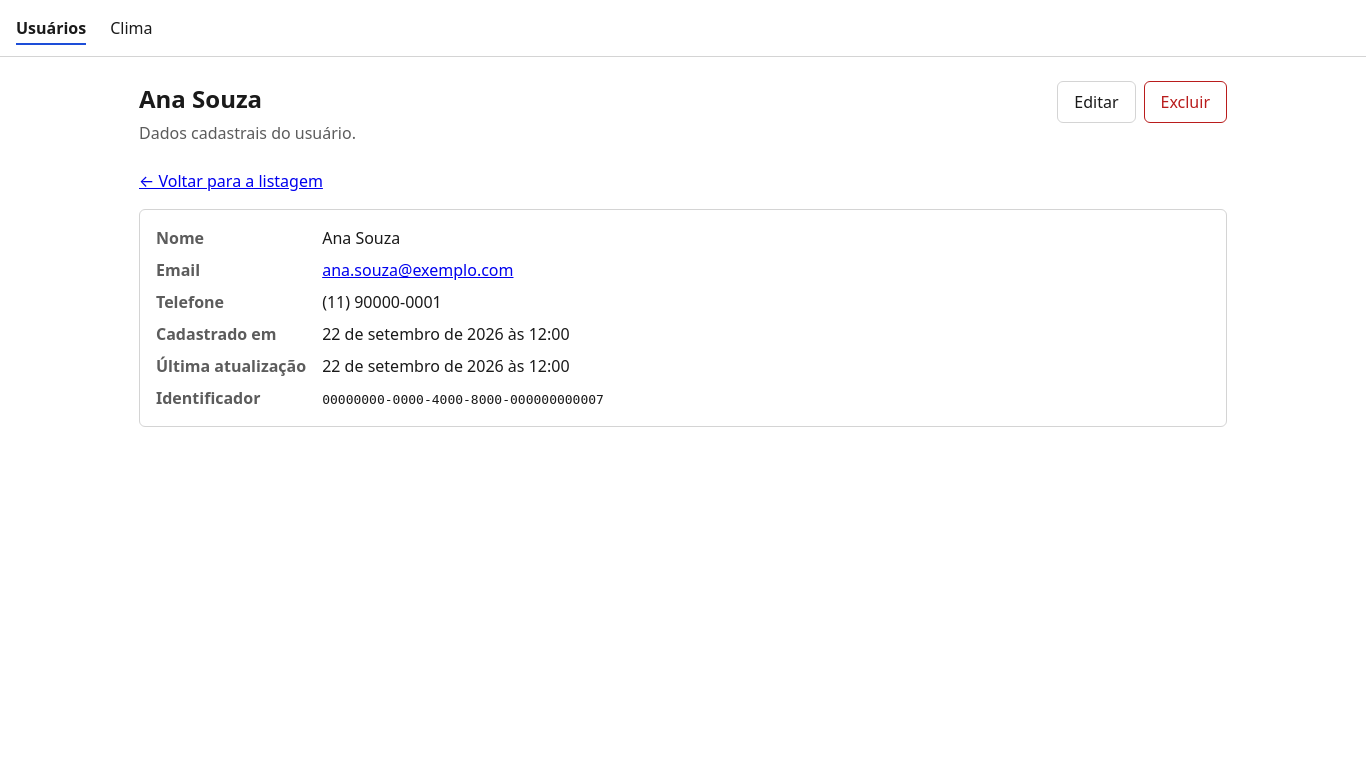
it: tráfego da exclusão › excluir não busca o registro apagado
The image size is (1366, 768).
Expected: the heading "Ana Souza" is shown, [139,82,262,115]
Click the button "Excluir". click: (1185, 102)
box: [1144,81,1227,123]
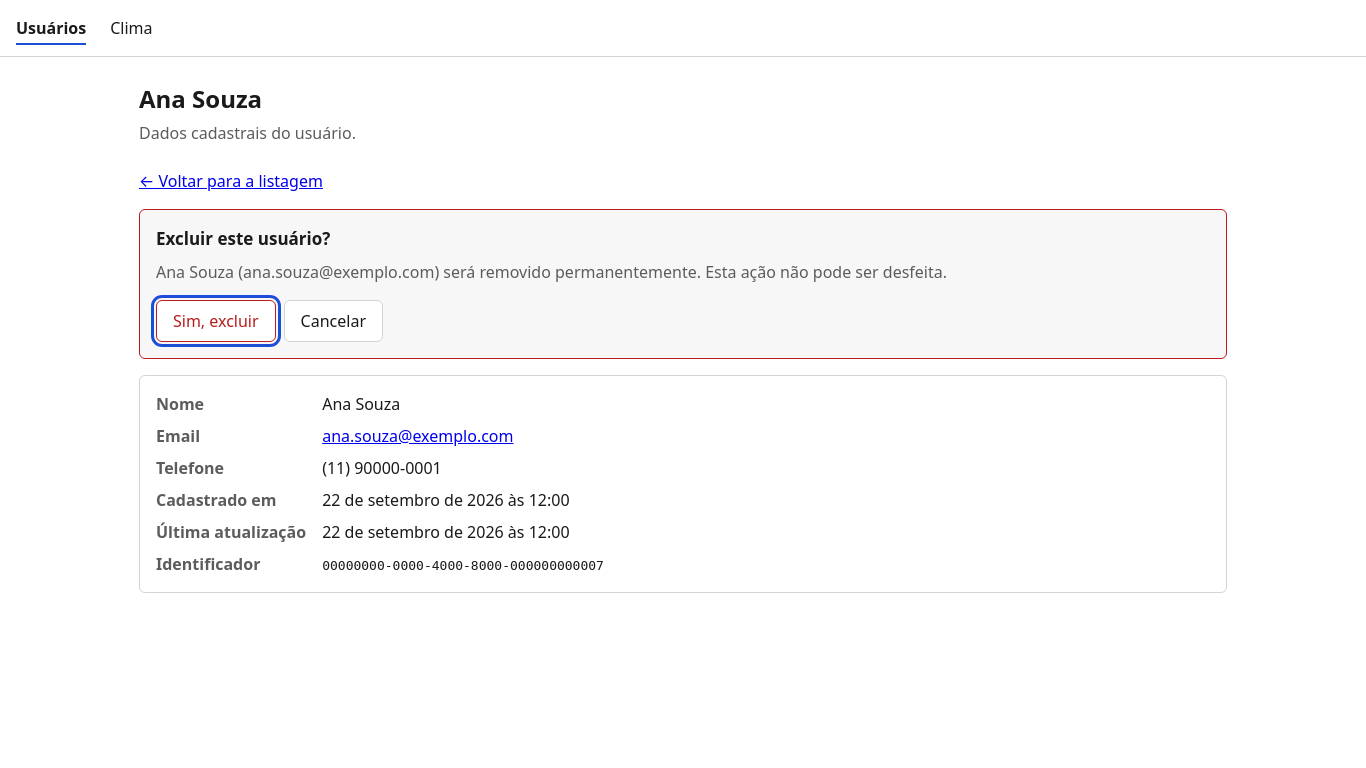
Click the button "Sim, excluir". click: (216, 320)
box: [156,300,276,342]
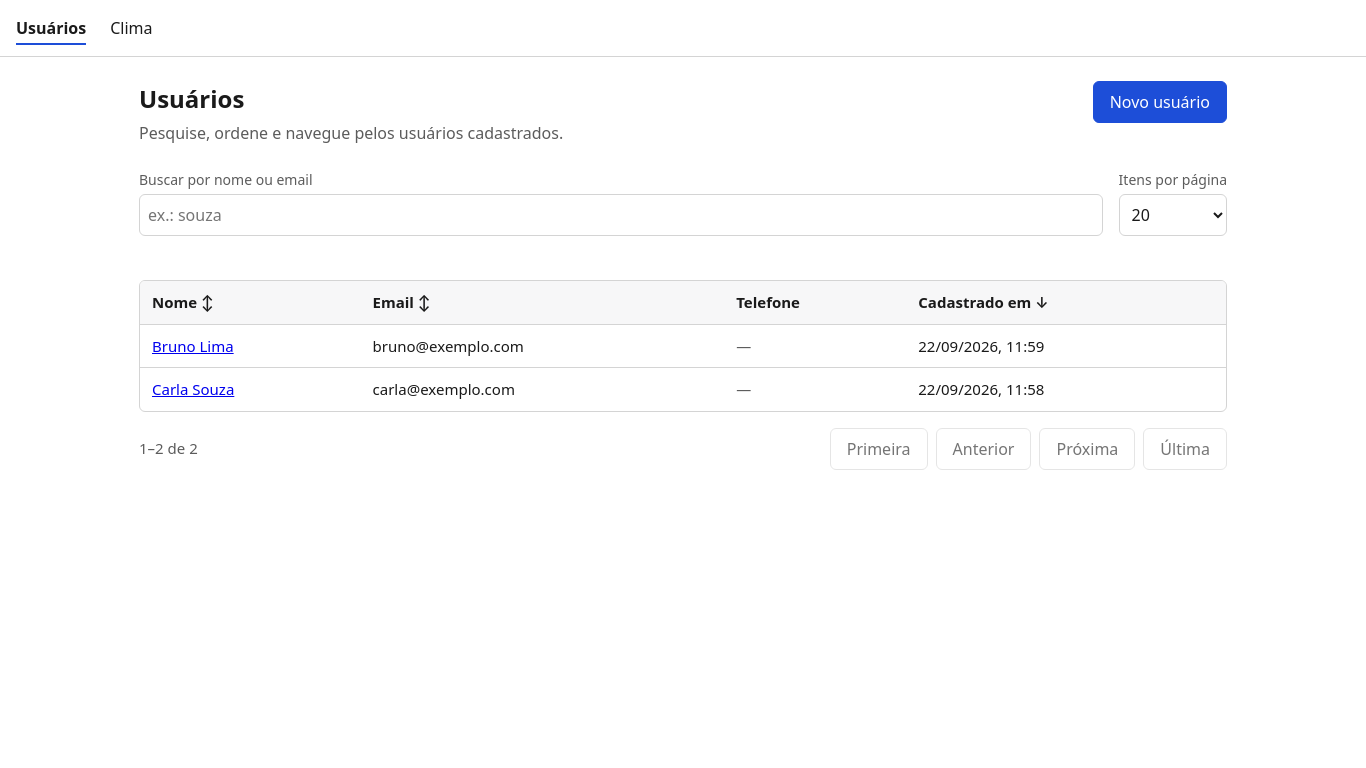
Expected: the table is shown, [140,281,1226,410]
